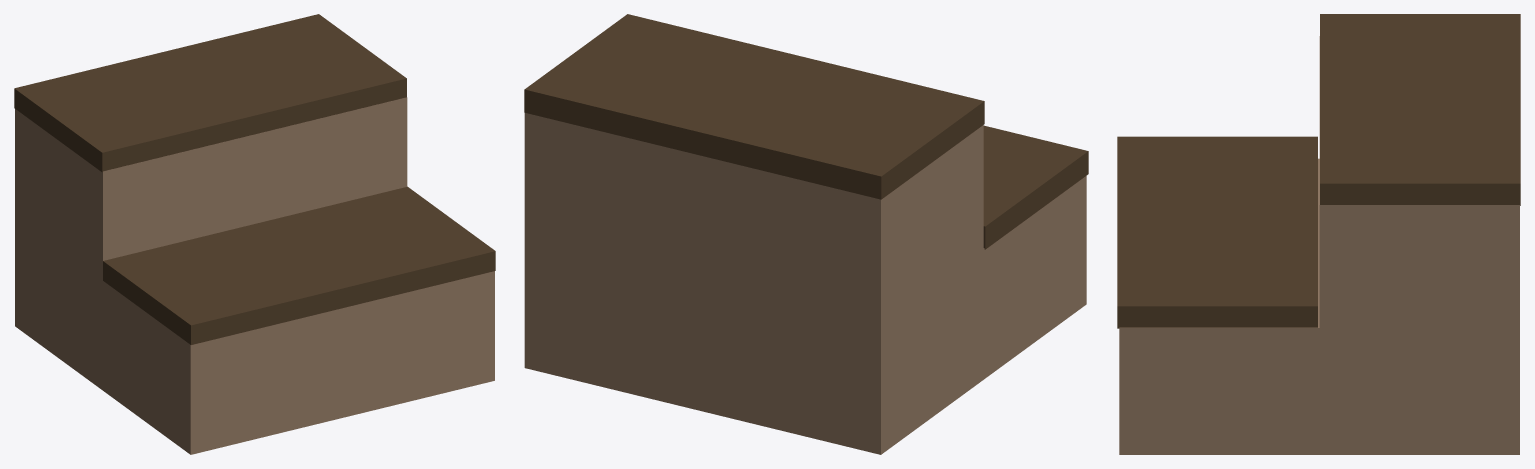
File: Steps.FBX
3 renders of one model, left to right at view 1: azimuth 30°, elevation 25°; view 2: azimuth 150°, elevation 25°; view 3: azimuth 270°, elevation 25°, orthographic. The views are drawn at different scales.
Visible parts, largest first — view 1: Box002; view 2: Box002; view 3: Box002.
Boxes of the visible parts, x1,y1,x2,y2 form: Box002: (14,14,495,454); Box002: (524,14,1088,454); Box002: (1117,14,1520,454).
Bounding box in the file's own units: 200 × 150 × 201.
